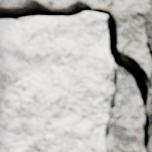brick: (0, 13, 115, 151), (144, 11, 151, 50), (146, 127, 151, 151), (150, 88, 151, 116)
crack: (0, 1, 151, 151)
